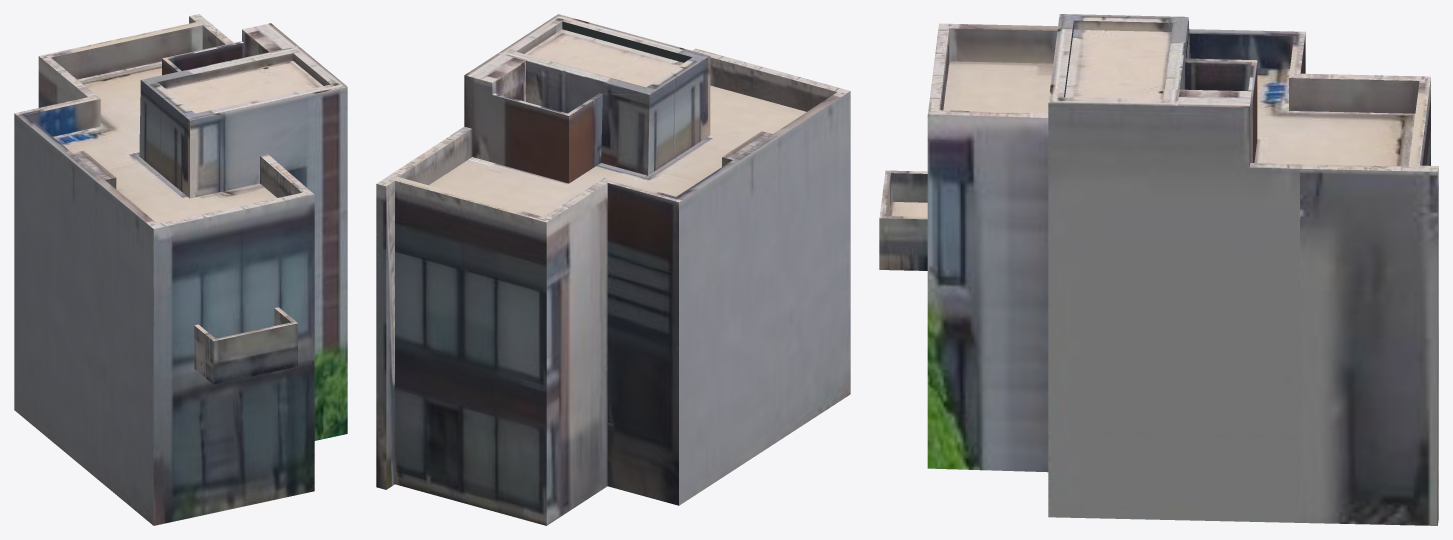
3 views of the same model, side by side, from view 1: azimuth 30°, elevation 25°; view 2: azimuth 150°, elevation 25°; view 3: azimuth 270°, elevation 25° (orthographic). The views are drawn at different scales.
Visible parts, largest first — view 1: B284864030901062A0; view 2: B284864030901062A0; view 3: B284864030901062A0.
Boxes of the visible parts, box(x1,y1,x2,y2) form: B284864030901062A0: box(14, 14, 347, 525); B284864030901062A0: box(376, 14, 850, 525); B284864030901062A0: box(879, 14, 1438, 525).
Bounding box in the file's own units: 9.33 × 12.15 × 14.86.
1 material, 1 textured.
